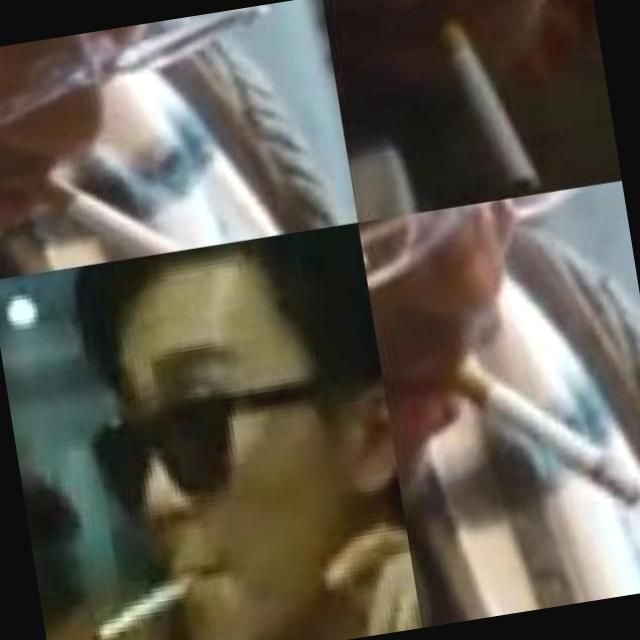cigarette: (436, 325, 640, 533), (10, 132, 231, 273), (427, 0, 545, 206), (83, 562, 211, 640)
